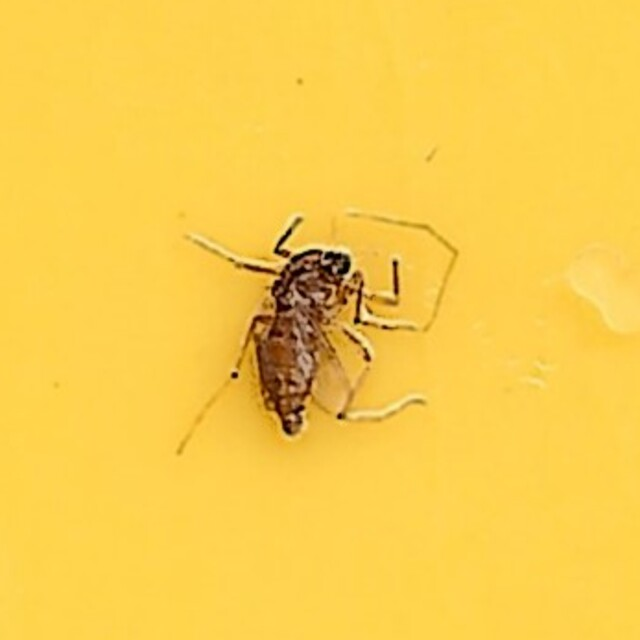Nematocera: (184, 204, 456, 436)
